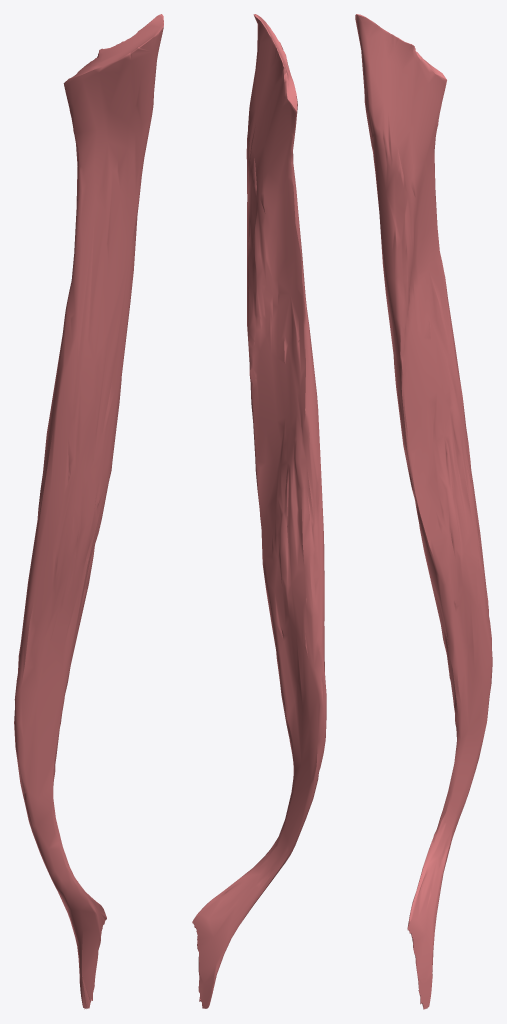
3 views of the same model, side by side, from view 1: azimuth 90°, elevation 25°; view 2: azimuth 210°, elevation 25°; view 3: azimuth 270°, elevation 25° (orthographic). The views are drawn at different scales.
Visible parts, largest first — view 1: FJ1421M; view 2: FJ1421M; view 3: FJ1421M.
Part boxes in pixels (x1,y1,x2,y2): FJ1421M: (14,14,163,1009); FJ1421M: (192,14,326,1008); FJ1421M: (355,14,492,1009).
Size of the model in its own units: 0.058 by 0.5118 by 0.0668.
